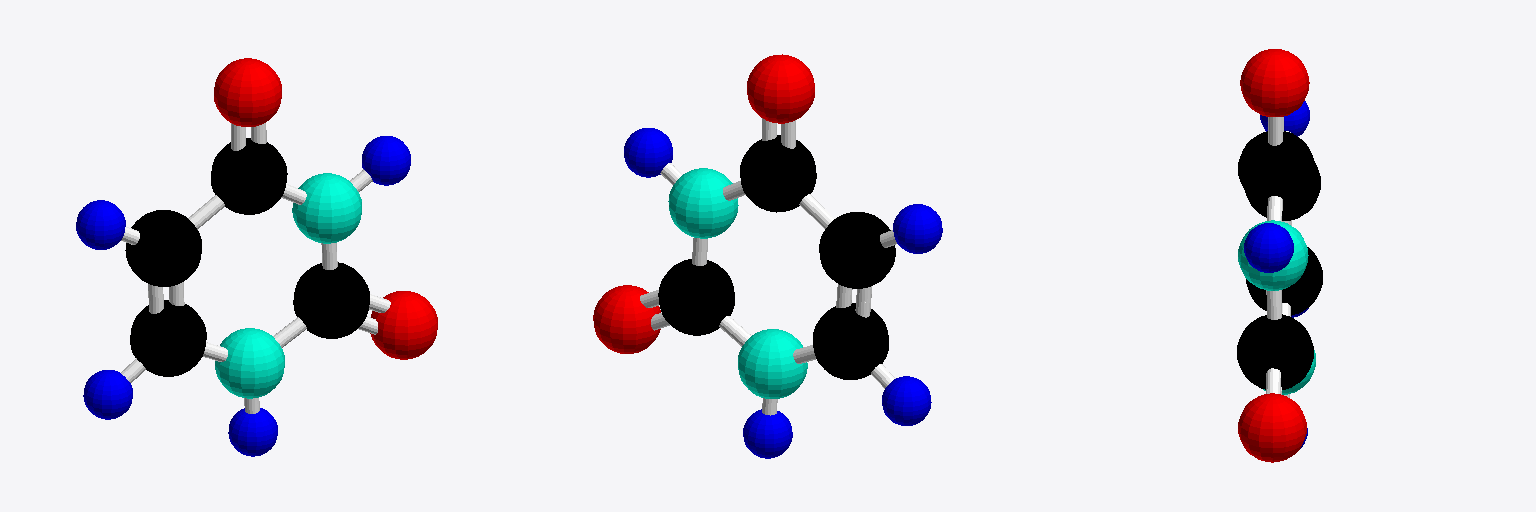
Rendered from uracila.obj.
3 renders of one model, left to right at view 1: azimuth 30°, elevation 25°; view 2: azimuth 150°, elevation 25°; view 3: azimuth 270°, elevation 25°, orthographic.
Parts seen in each view (by area): view 1: carbono_Shape_Sphere.008, carbono.003_Shape_Sphere.002, carbono.001_Shape_Sphere.001, carbono.002_Shape_Sphere.003, nitrogenio_Shape_Sphere.006, oxigenio.001_Shape_Sphere, nitrogenio.001_Shape_Sphere.005, oxigenio_Shape_Sphere.011, hidrogenio.002_Shape_Sphere.004, hidrogenio.003_Shape_Sphere.007, hidrogenio.001_Shape_Sphere.010, hidrogenio_Shape_Sphere.009; view 2: carbono_Shape_Sphere.008, carbono.003_Shape_Sphere.002, carbono.001_Shape_Sphere.001, carbono.002_Shape_Sphere.003, oxigenio.001_Shape_Sphere, nitrogenio_Shape_Sphere.006, nitrogenio.001_Shape_Sphere.005, oxigenio_Shape_Sphere.011, hidrogenio.002_Shape_Sphere.004, hidrogenio.003_Shape_Sphere.007, hidrogenio.001_Shape_Sphere.010, hidrogenio_Shape_Sphere.009; view 3: carbono.001_Shape_Sphere.001, carbono_Shape_Sphere.008, oxigenio_Shape_Sphere.011, oxigenio.001_Shape_Sphere, hidrogenio.001_Shape_Sphere.010, nitrogenio.001_Shape_Sphere.005, carbono.002_Shape_Sphere.003, carbono.003_Shape_Sphere.002, hidrogenio.002_Shape_Sphere.004.
Boxes of the visible parts, x1=… form: carbono_Shape_Sphere.008: x1=293, y1=262, x2=369, y2=338; carbono.003_Shape_Sphere.002: x1=125, y1=210, x2=201, y2=286; carbono.001_Shape_Sphere.001: x1=211, y1=138, x2=287, y2=214; carbono.002_Shape_Sphere.003: x1=130, y1=300, x2=206, y2=376; nitrogenio_Shape_Sphere.006: x1=215, y1=328, x2=284, y2=398; oxigenio.001_Shape_Sphere: x1=214, y1=58, x2=281, y2=126; nitrogenio.001_Shape_Sphere.005: x1=292, y1=173, x2=361, y2=243; oxigenio_Shape_Sphere.011: x1=370, y1=291, x2=437, y2=359; hidrogenio.002_Shape_Sphere.004: x1=76, y1=200, x2=125, y2=249; hidrogenio.003_Shape_Sphere.007: x1=83, y1=370, x2=132, y2=419; hidrogenio.001_Shape_Sphere.010: x1=362, y1=136, x2=410, y2=185; hidrogenio_Shape_Sphere.009: x1=228, y1=408, x2=277, y2=456; carbono_Shape_Sphere.008: x1=658, y1=259, x2=734, y2=335; carbono.003_Shape_Sphere.002: x1=819, y1=212, x2=895, y2=288; carbono.001_Shape_Sphere.001: x1=740, y1=135, x2=816, y2=212; carbono.002_Shape_Sphere.003: x1=813, y1=303, x2=888, y2=379; oxigenio.001_Shape_Sphere: x1=747, y1=54, x2=814, y2=123; nitrogenio_Shape_Sphere.006: x1=738, y1=329, x2=807, y2=398; nitrogenio.001_Shape_Sphere.005: x1=668, y1=168, x2=738, y2=238; oxigenio_Shape_Sphere.011: x1=593, y1=285, x2=660, y2=353; hidrogenio.002_Shape_Sphere.004: x1=893, y1=204, x2=942, y2=253; hidrogenio.003_Shape_Sphere.007: x1=882, y1=376, x2=931, y2=425; hidrogenio.001_Shape_Sphere.010: x1=624, y1=128, x2=672, y2=177; hidrogenio_Shape_Sphere.009: x1=743, y1=409, x2=792, y2=458; carbono.001_Shape_Sphere.001: x1=1238, y1=131, x2=1314, y2=206; carbono_Shape_Sphere.008: x1=1237, y1=314, x2=1313, y2=389; oxigenio_Shape_Sphere.011: x1=1238, y1=393, x2=1306, y2=462; oxigenio.001_Shape_Sphere: x1=1240, y1=49, x2=1309, y2=116; hidrogenio.001_Shape_Sphere.010: x1=1244, y1=223, x2=1293, y2=272; nitrogenio.001_Shape_Sphere.005: x1=1238, y1=220, x2=1308, y2=290; carbono.002_Shape_Sphere.003: x1=1246, y1=247, x2=1322, y2=315; carbono.003_Shape_Sphere.002: x1=1245, y1=163, x2=1320, y2=220; hidrogenio.002_Shape_Sphere.004: x1=1260, y1=101, x2=1309, y2=136.
Bounding box in the file's own units: 5.29 × 5.77 × 1.14.